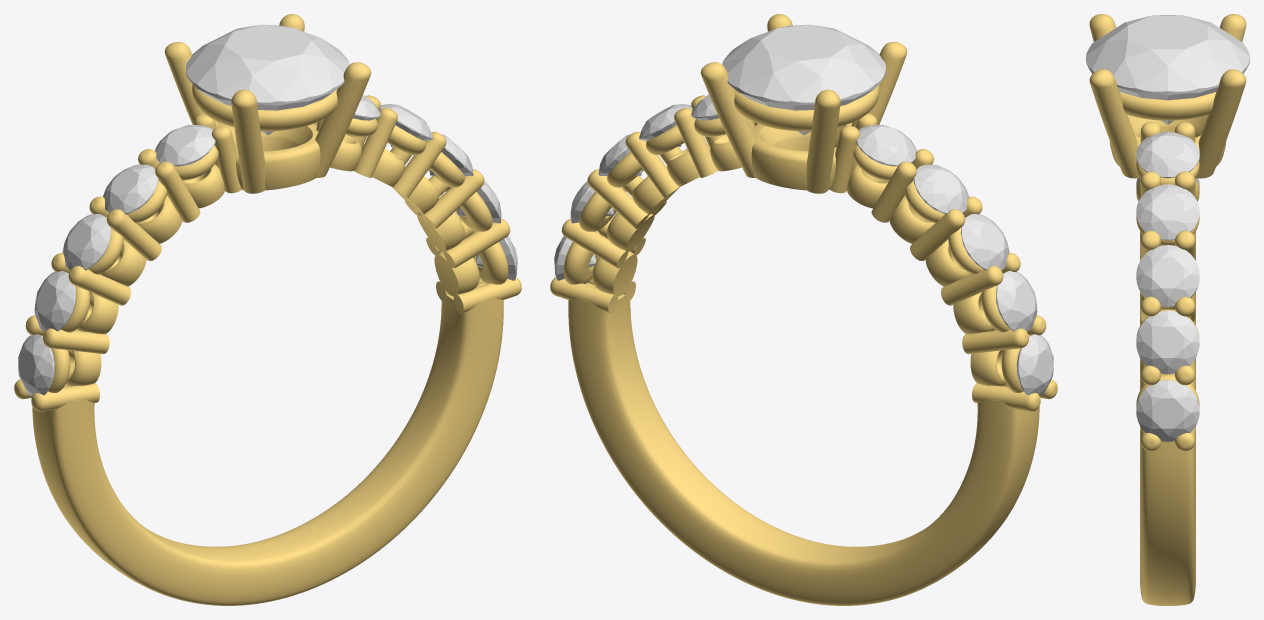
The model's file is diamond-round-yellowgold-4prong-straightband-11stone.glb.
The picture shows the model from 3 angles, left to right: view 1: azimuth 30°, elevation 25°; view 2: azimuth 150°, elevation 25°; view 3: azimuth 270°, elevation 25°; orthographic projection.
Visible parts, largest first — view 1: metal, stone, side.004, side.006, side.002, side.008, side, side.007; view 2: metal, stone, side.004, side.006, side.002, side.008, side, side.007; view 3: metal, stone, side.003, side.001, side.005, side.007, side.009.
Part boxes in pixels (left/top/right/bottom): metal: left=14, top=14, right=521, bottom=605; stone: left=186, top=24, right=349, bottom=135; side.004: left=62, top=214, right=111, bottom=270; side.006: left=103, top=164, right=158, bottom=214; side.002: left=34, top=271, right=75, bottom=331; side.008: left=155, top=124, right=215, bottom=166; side: left=18, top=334, right=55, bottom=396; side.007: left=379, top=104, right=432, bottom=146; metal: left=550, top=14, right=1057, bottom=605; stone: left=722, top=24, right=885, bottom=135; side.004: left=960, top=214, right=1009, bottom=270; side.006: left=913, top=164, right=968, bottom=214; side.002: left=996, top=271, right=1037, bottom=331; side.008: left=856, top=124, right=916, bottom=166; side: left=1016, top=334, right=1053, bottom=396; side.007: left=639, top=104, right=692, bottom=146; metal: left=1089, top=14, right=1246, bottom=605; stone: left=1086, top=14, right=1249, bottom=124; side.003: left=1136, top=310, right=1199, bottom=374; side.001: left=1136, top=380, right=1199, bottom=441; side.005: left=1136, top=245, right=1199, bottom=306; side.007: left=1136, top=184, right=1199, bottom=240; side.009: left=1136, top=131, right=1199, bottom=178.
Size of the model in its own units: 22.03 by 23.82 by 6.44.
